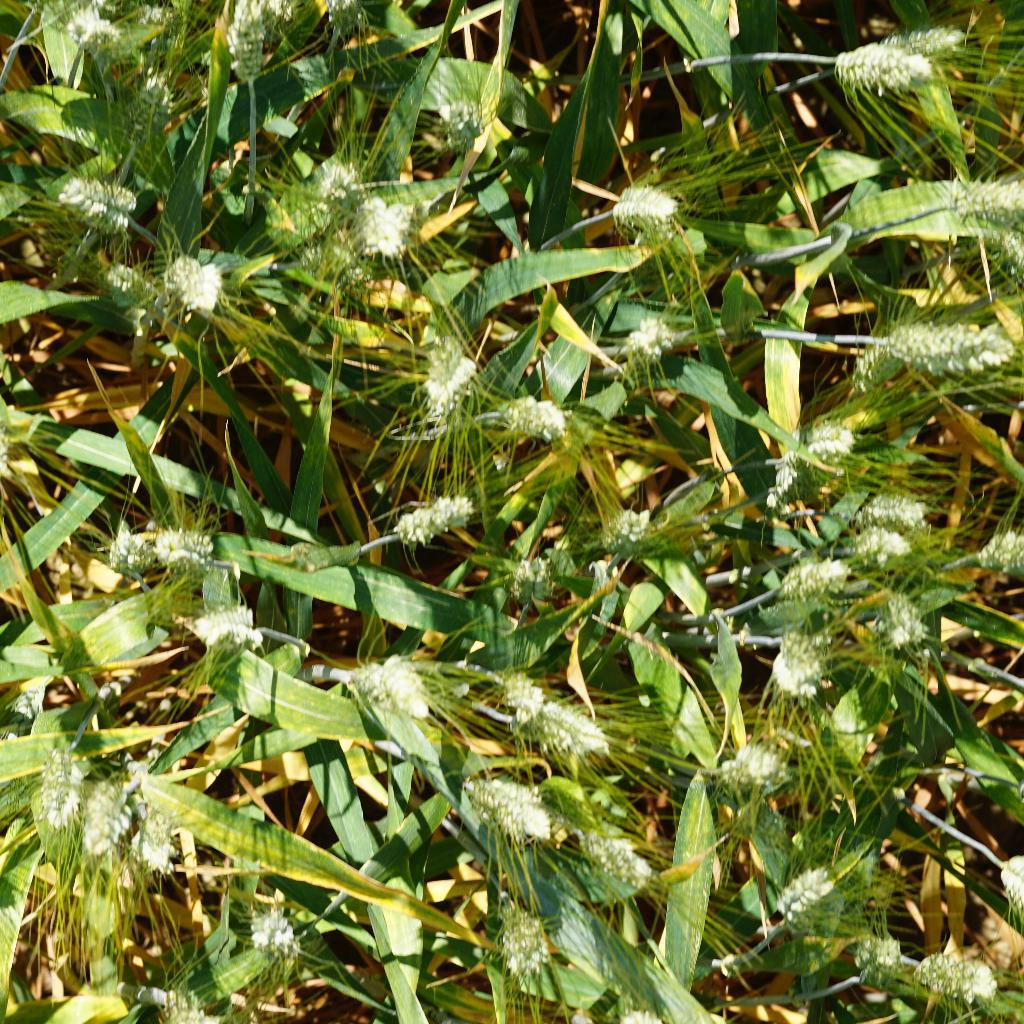0-0: (550, 811, 658, 901), (885, 314, 1015, 385), (458, 759, 559, 848), (43, 156, 145, 239), (759, 852, 858, 937), (821, 29, 933, 103), (489, 381, 589, 460), (403, 331, 481, 428), (518, 695, 615, 769), (482, 899, 561, 989), (852, 579, 935, 662), (903, 942, 1000, 1011), (769, 624, 841, 711), (397, 481, 482, 549), (342, 187, 414, 266), (357, 651, 438, 720), (934, 185, 1024, 246), (863, 19, 970, 70), (854, 479, 945, 538), (71, 768, 129, 860), (716, 733, 798, 798), (842, 331, 916, 403), (216, 0, 277, 87), (776, 545, 869, 601), (78, 250, 163, 311), (597, 303, 671, 373), (124, 800, 190, 878), (591, 497, 671, 560), (22, 747, 83, 829), (232, 894, 306, 961), (723, 795, 801, 858), (846, 919, 908, 997), (189, 597, 273, 653), (428, 97, 501, 160), (163, 242, 224, 317), (145, 520, 220, 580), (299, 134, 367, 198), (609, 185, 694, 235), (503, 529, 563, 598), (802, 407, 869, 467), (62, 0, 122, 60), (96, 512, 150, 578), (153, 978, 223, 1024), (496, 662, 549, 721), (123, 67, 178, 123), (763, 452, 817, 508), (968, 523, 1024, 576), (306, 230, 365, 280), (117, 0, 188, 41), (0, 397, 19, 496), (12, 674, 48, 723)
